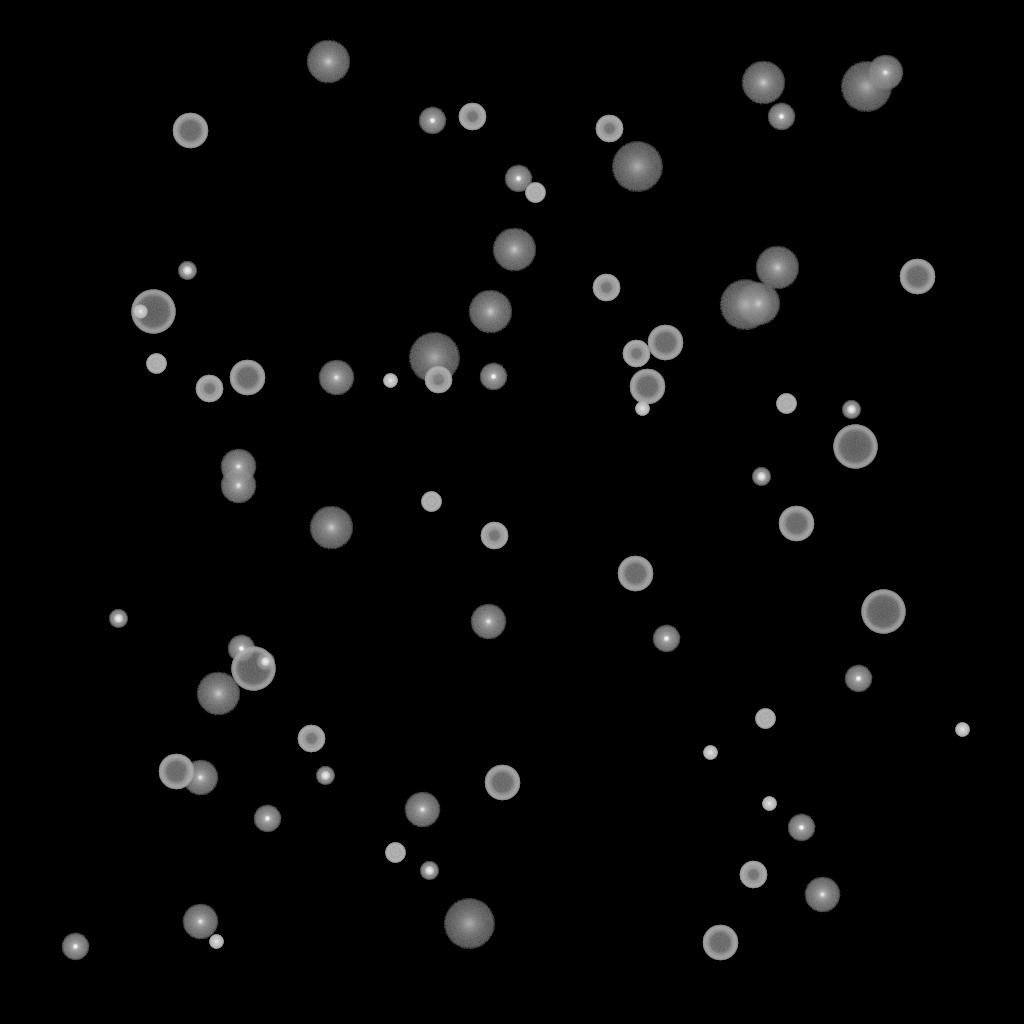depth:-10: (652, 625, 680, 653), (504, 165, 532, 193), (787, 814, 815, 842), (227, 635, 255, 663), (844, 665, 872, 693), (61, 933, 89, 961), (767, 103, 795, 131), (479, 363, 507, 391), (253, 805, 281, 833), (418, 107, 446, 135)
depth:-20: (842, 401, 860, 419), (420, 862, 438, 880), (109, 610, 127, 628), (178, 262, 196, 280), (752, 468, 770, 486), (256, 653, 274, 671), (316, 767, 334, 785)
depth:-30: (703, 746, 717, 760), (209, 935, 223, 949), (762, 797, 776, 811), (635, 402, 649, 416), (133, 305, 147, 319), (955, 723, 969, 737), (383, 374, 397, 388)
depth:-40: (421, 492, 441, 512), (776, 394, 796, 414), (755, 709, 775, 729), (146, 354, 166, 374), (525, 183, 545, 203), (385, 843, 405, 863)
depth:-50: (458, 103, 486, 131), (297, 725, 325, 753), (595, 115, 623, 143), (195, 375, 223, 403), (480, 522, 508, 550), (739, 861, 767, 889), (592, 274, 620, 302), (424, 366, 452, 394), (622, 340, 650, 368)
depth:-60: (629, 369, 665, 405), (158, 754, 194, 790), (172, 113, 208, 149), (229, 360, 265, 396), (778, 506, 814, 542), (647, 325, 683, 361), (484, 765, 520, 801), (899, 259, 935, 295), (702, 925, 738, 961), (617, 556, 653, 592)
depth:-70: (231, 647, 275, 691), (131, 290, 175, 334), (861, 590, 905, 634), (833, 425, 877, 469)
depth:0: (804, 877, 840, 913), (220, 468, 256, 504), (182, 760, 218, 796), (182, 904, 218, 940), (470, 604, 506, 640), (867, 55, 903, 91), (404, 792, 440, 828), (220, 449, 256, 485), (318, 360, 354, 396)
depth:10: (736, 282, 780, 326), (755, 246, 799, 290), (309, 506, 353, 550), (492, 228, 536, 272), (468, 290, 512, 334), (741, 61, 785, 105), (196, 672, 240, 716), (306, 40, 350, 84)
depth:20: (840, 62, 892, 112), (719, 280, 771, 330), (408, 333, 460, 383), (443, 899, 495, 949), (611, 142, 663, 192)
